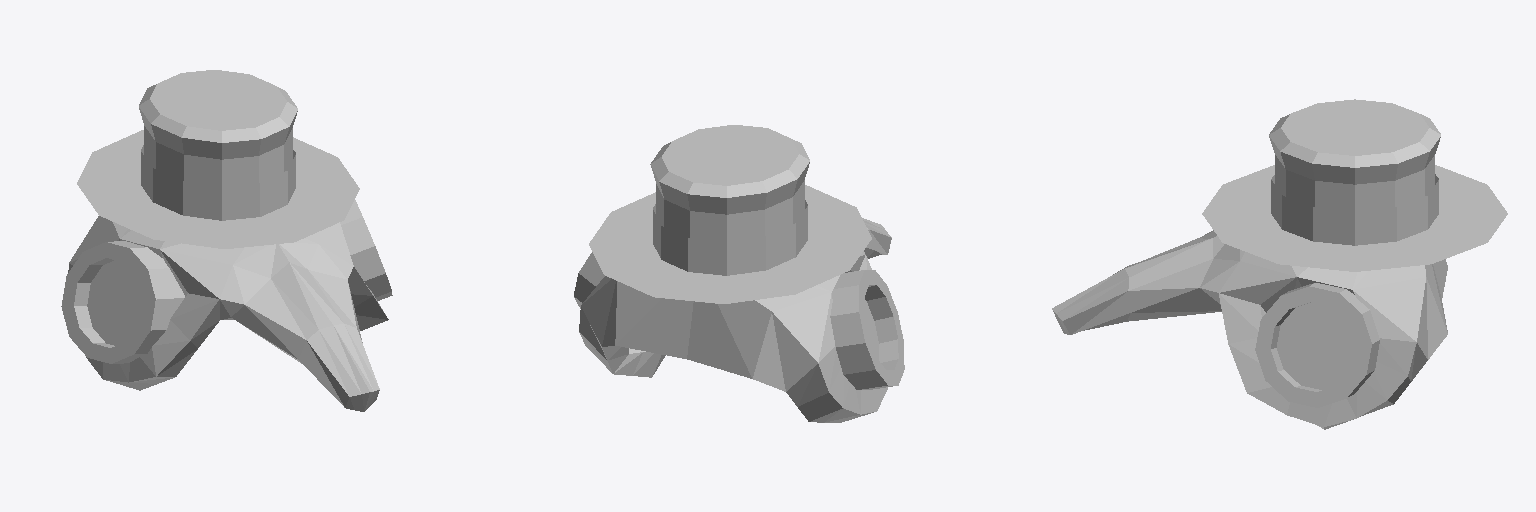
Rendered from plague_mask_and_hat.obj.
3 renders of one model, left to right at view 1: azimuth 30°, elevation 25°; view 2: azimuth 150°, elevation 25°; view 3: azimuth 270°, elevation 25°, orthographic.
Parts seen in each view (by area): view 1: Cylinder.014, Cube.014, Cylinder.011, Cylinder.016, Cylinder.012; view 2: Cylinder.014, Cube.014, Cylinder.011, Cylinder.016; view 3: Cylinder.014, Cube.014, Cylinder.011, Cylinder.016, Cylinder.012.
Boxes of the visible parts, <box> form: Cylinder.014: <box>77,70,359,248</box>; Cube.014: <box>68,216,388,411</box>; Cylinder.011: <box>61,200,392,363</box>; Cylinder.016: <box>141,145,295,220</box>; Cylinder.012: <box>87,260,142,345</box>; Cylinder.014: <box>589,125,871,303</box>; Cube.014: <box>579,218,891,422</box>; Cylinder.011: <box>574,252,904,389</box>; Cylinder.016: <box>653,200,807,275</box>; Cylinder.014: <box>1202,99,1507,271</box>; Cube.014: <box>1052,230,1447,429</box>; Cylinder.011: <box>1255,283,1379,407</box>; Cylinder.016: <box>1271,174,1438,245</box>; Cylinder.012: <box>1277,303,1356,389</box>.
Bounding box in the file's own units: 1.26 × 1 × 1.62.